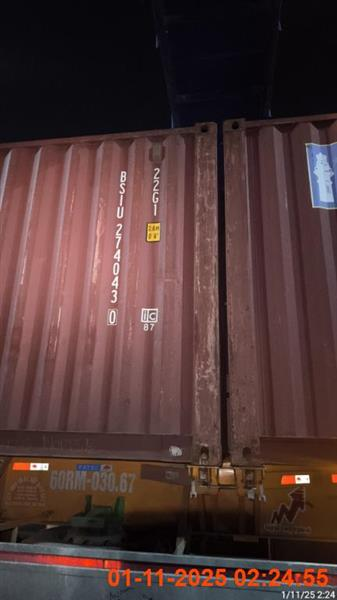broken: (1, 114, 334, 568), (0, 114, 335, 565)
